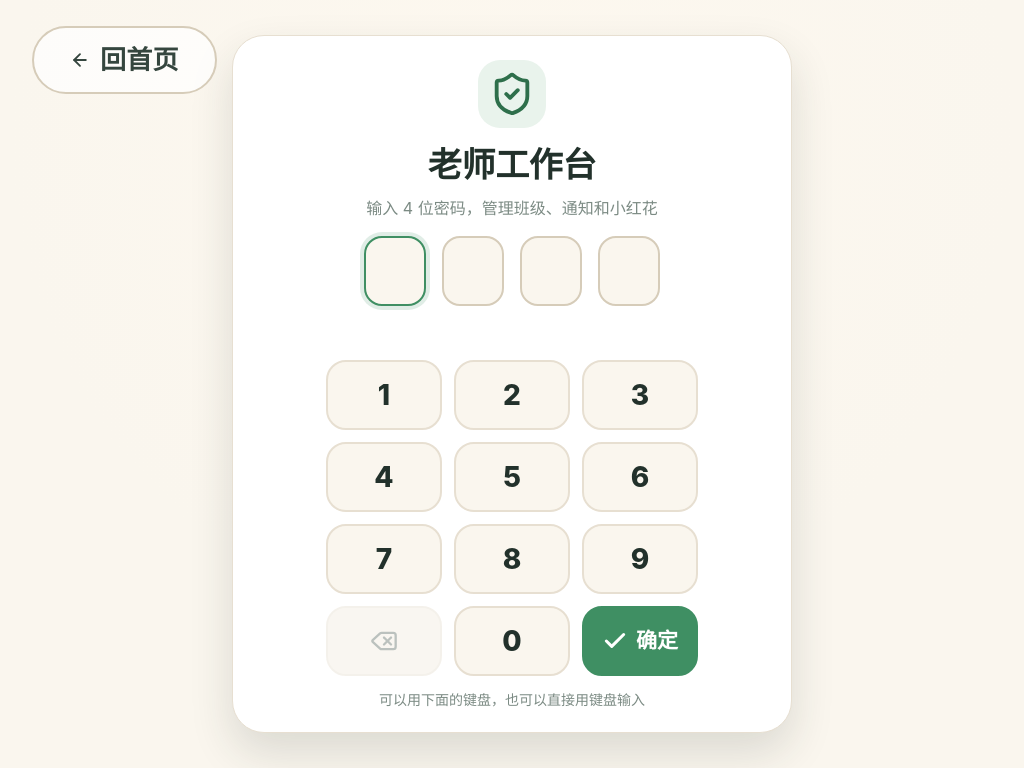
Test: PinGate › TestShowsWrongPinAndClearsDots
The image size is (1024, 768).
Click the button "0" at (512, 641), box [454, 606, 570, 676]
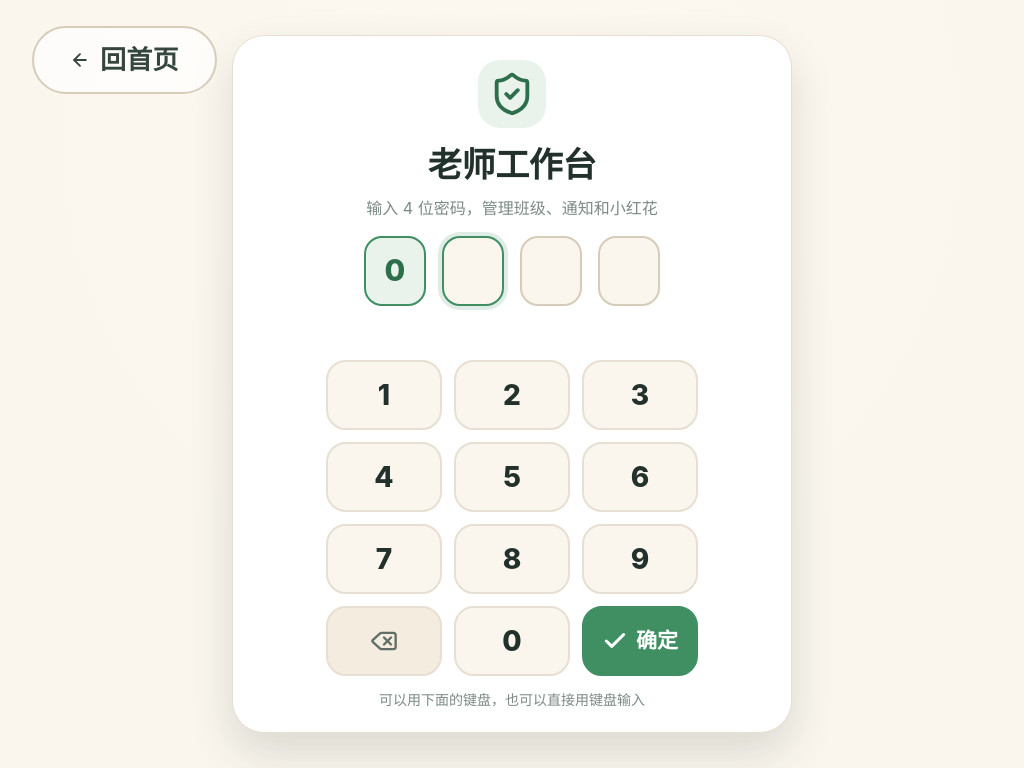
Click the button "0" at (512, 641), box [454, 606, 570, 676]
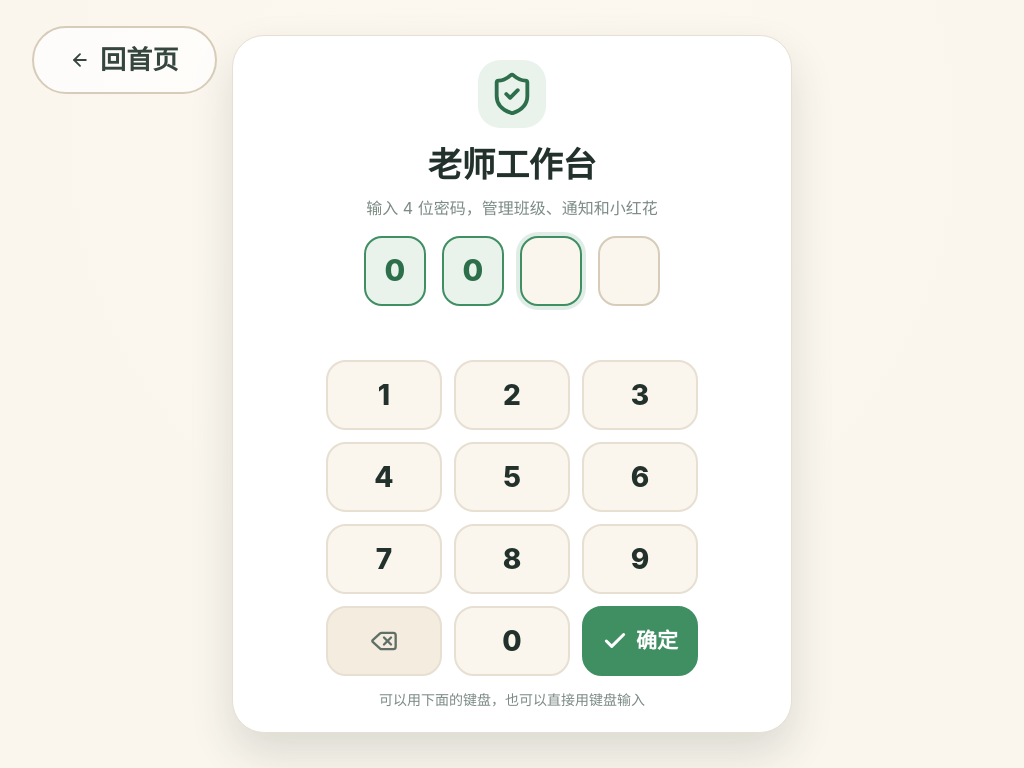
Click the button "0" at (512, 641), box [454, 606, 570, 676]
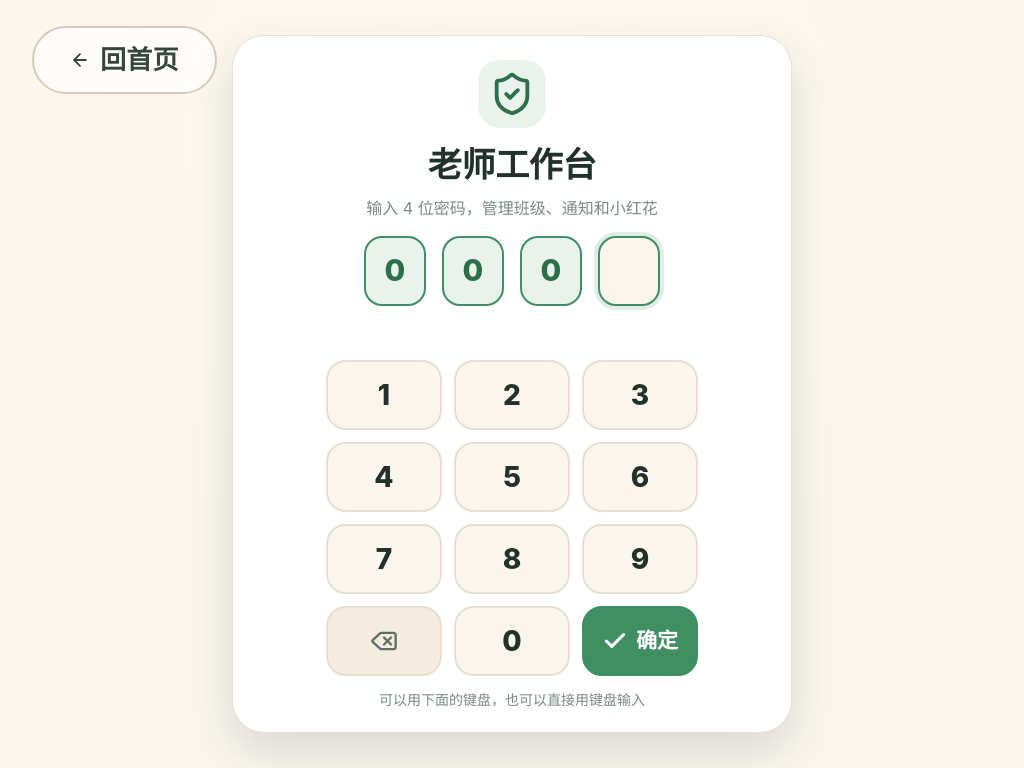
Click the button "0" at (512, 641), box [454, 606, 570, 676]
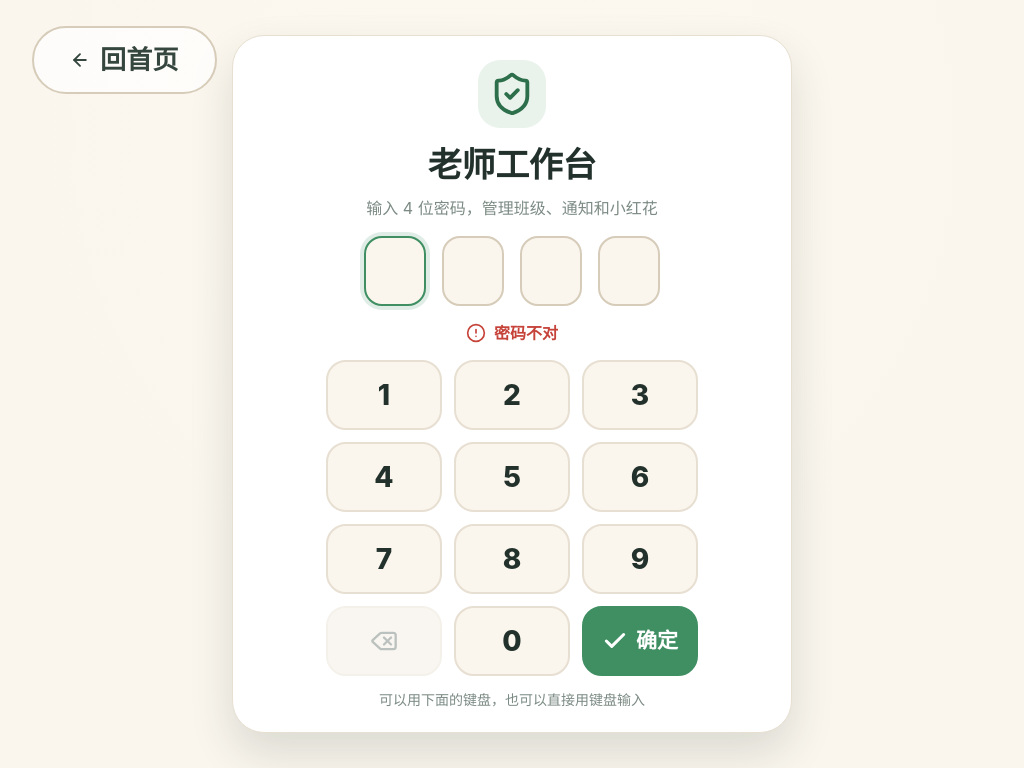
Expected: the message reads "密码不对", [494, 322, 558, 342]
